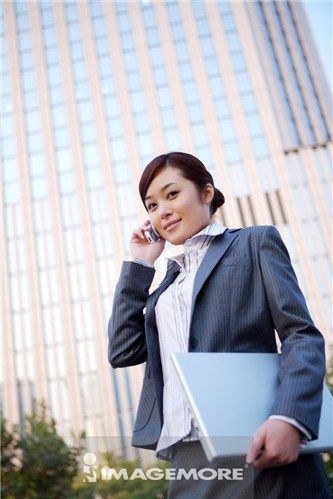talk: (125, 177, 191, 262)
